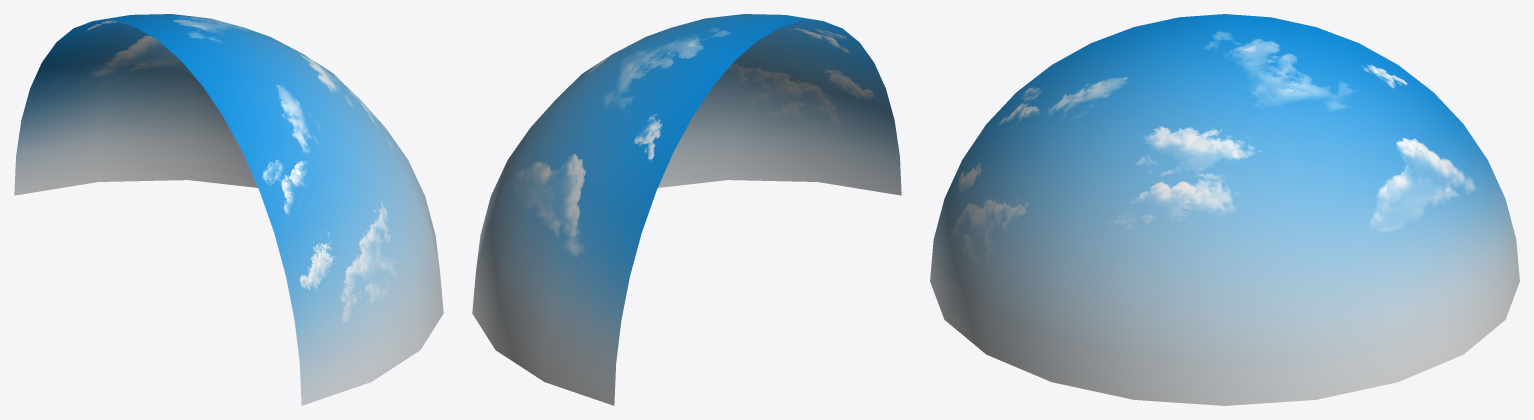
File: Sky_bg.fbx
3 renders of one model, left to right at view 1: azimuth 30°, elevation 25°; view 2: azimuth 150°, elevation 25°; view 3: azimuth 270°, elevation 25°, orthographic. The views are drawn at different scales.
Parts seen in each view (by area): view 1: Sky_bg; view 2: Sky_bg; view 3: Sky_bg.
Part boxes in pixels (box(x1,y1,x2,y2)): Sky_bg: box(14, 14, 443, 405); Sky_bg: box(472, 14, 901, 405); Sky_bg: box(930, 14, 1519, 405).
Bounding box in the file's own units: 14.18 × 14.18 × 28.36.
